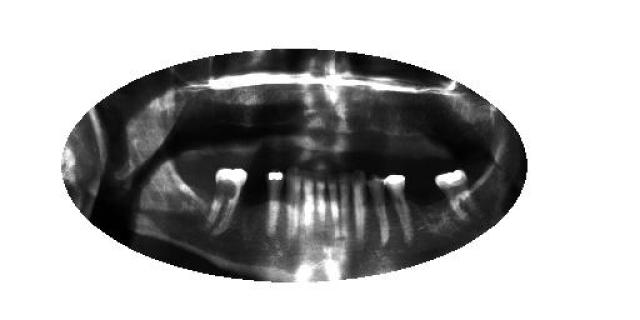Cavity: (206, 167, 250, 235)
Fillings: (384, 172, 416, 246), (433, 169, 478, 220), (266, 172, 284, 236)
